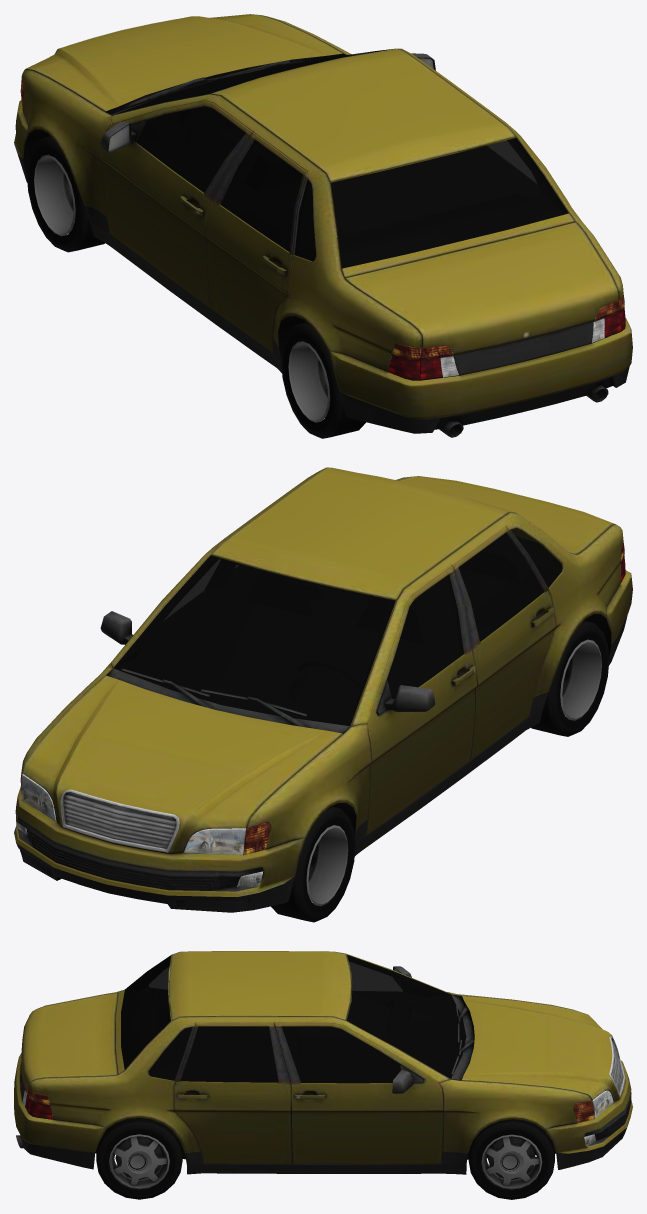
The model's file is sedan.glb.
3 renders of one model, top to bottom at view 1: azimuth 30°, elevation 25°; view 2: azimuth 150°, elevation 25°; view 3: azimuth 270°, elevation 25°, orthographic. The views are drawn at different scales.
Parts seen in each view (by area): view 1: Sedan_Body, wheel_1, wheel_2; view 2: Sedan_Body, wheel_2, wheel_1; view 3: Sedan_Body, wheel_0, wheel_3.
Part boxes in pixels (x1=…): Sedan_Body: x1=14, y1=14, x2=632, y2=437; wheel_1: x1=281, y1=322, x2=365, y2=438; wheel_2: x1=27, y1=136, x2=104, y2=252; Sedan_Body: x1=14, y1=467, x2=632, y2=912; wheel_2: x1=271, y1=806, x2=355, y2=922; wheel_1: x1=531, y1=620, x2=609, y2=736; Sedan_Body: x1=14, y1=951, x2=632, y2=1174; wheel_0: x1=96, y1=1118, x2=182, y2=1199; wheel_3: x1=468, y1=1119, x2=554, y2=1199.
Bounding box in the file's own units: 2.18 × 1.51 × 4.91.
Materials: 4 (3 with a texture image).
